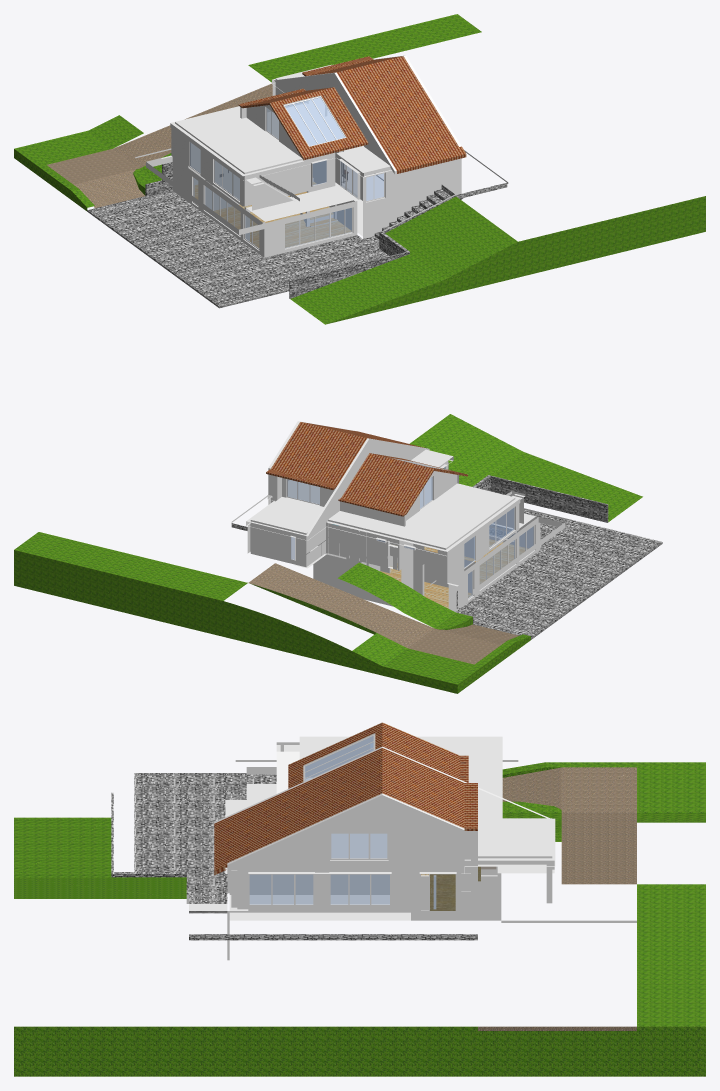
The model's file is MaisonArchi.gltf.
3 views of the same model, one above another, from view 1: azimuth 30°, elevation 25°; view 2: azimuth 150°, elevation 25°; view 3: azimuth 270°, elevation 25° (orthographic). The views are drawn at different scales.
Parts seen in each view (by area): view 1: Mesh1 Model; view 2: Mesh1 Model; view 3: Mesh1 Model.
Boxes of the visible parts, x1,y1,x2,y2 form: Mesh1 Model: [14, 14, 705, 324]; Mesh1 Model: [14, 414, 662, 693]; Mesh1 Model: [14, 722, 705, 1076].
Bounding box in the file's own units: 38.69 × 10.03 × 37.55.
Materials: 23 (9 with a texture image).
